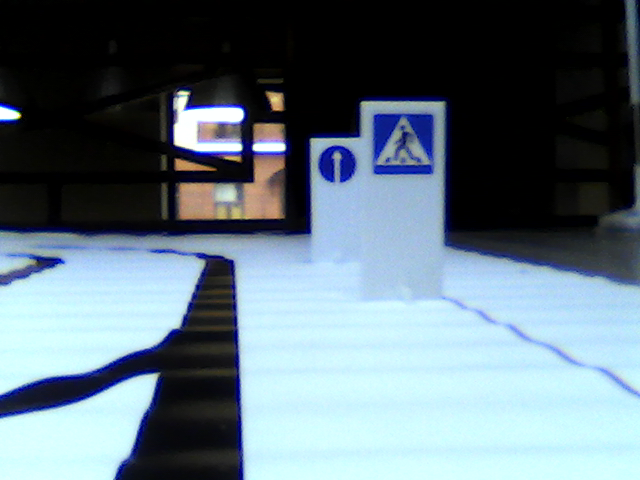forw: (319, 146, 355, 185)
pesh: (372, 111, 433, 174)
